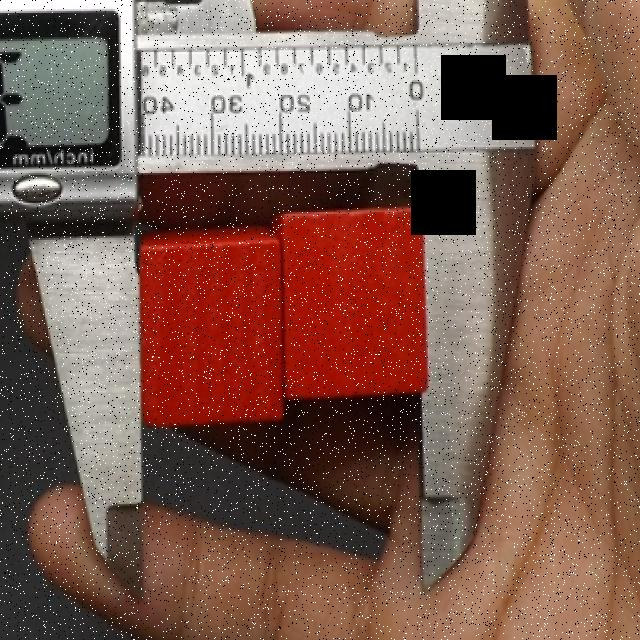red cube: (269, 206, 429, 398), (139, 223, 283, 427)
